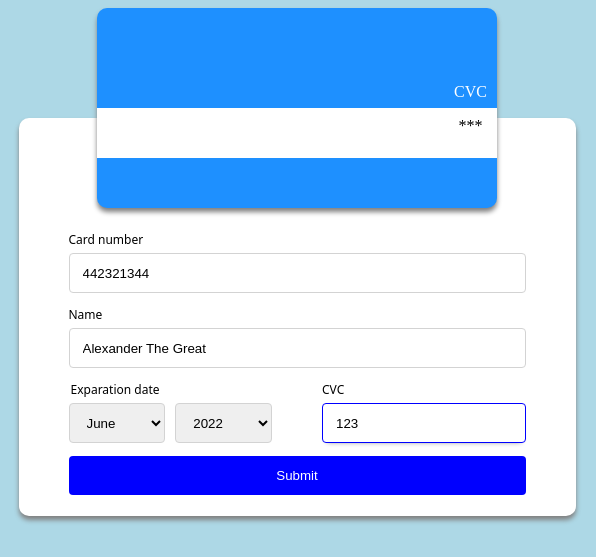
it: CreditCard Input › Clicks submit and error message is visible
This screenshot has width=596, height=557.
What coordinates should you click on to do the following:
click the button "Submit"
I would click on:
 (298, 476)
Its box is [69,456,526,495].
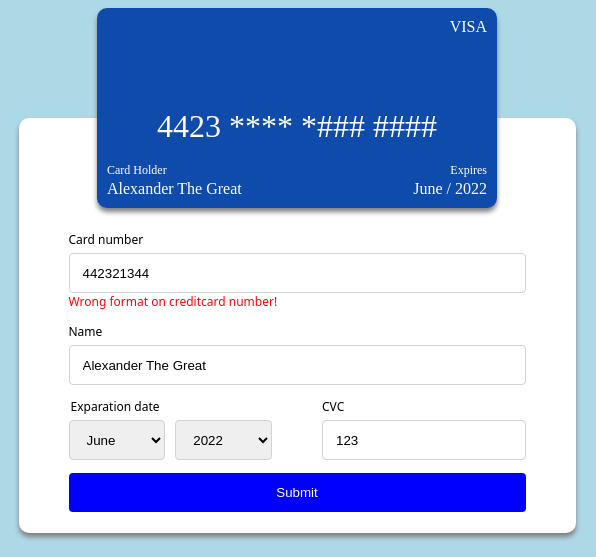
Expected: the text "Wrong format on creditcard number!" is shown, [68,293,277,310]
